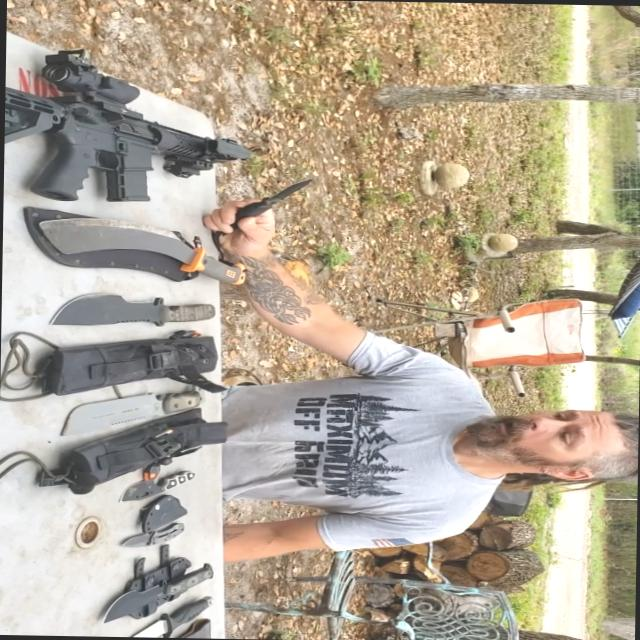knife: (39, 212, 260, 282), (48, 386, 214, 446), (102, 554, 229, 624), (40, 292, 238, 335), (113, 460, 210, 516), (226, 172, 318, 230), (132, 592, 222, 638), (113, 516, 199, 554)
long weapon: (3, 46, 278, 218)
